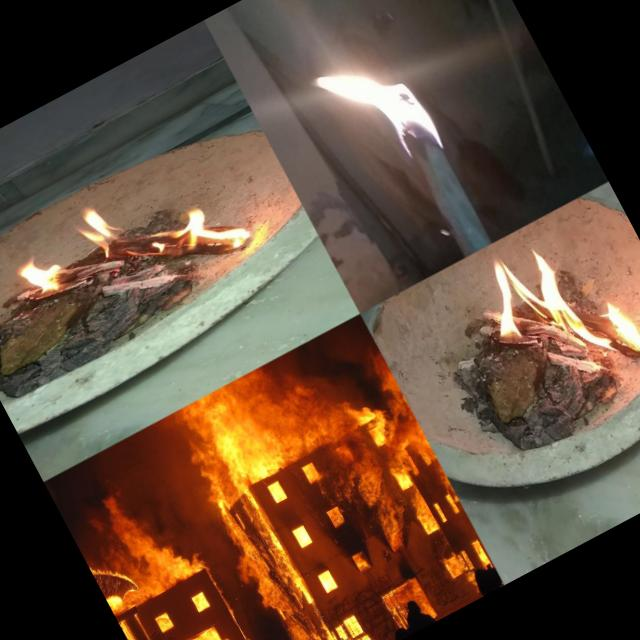fire: (156, 319, 478, 640), (0, 147, 251, 354), (458, 206, 640, 420), (282, 11, 456, 203), (64, 462, 218, 618), (168, 616, 257, 640)
